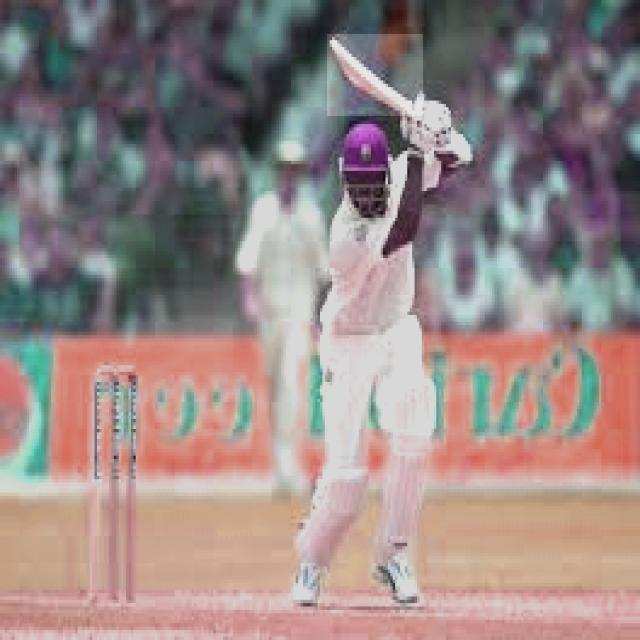bat: (331, 31, 420, 114)
